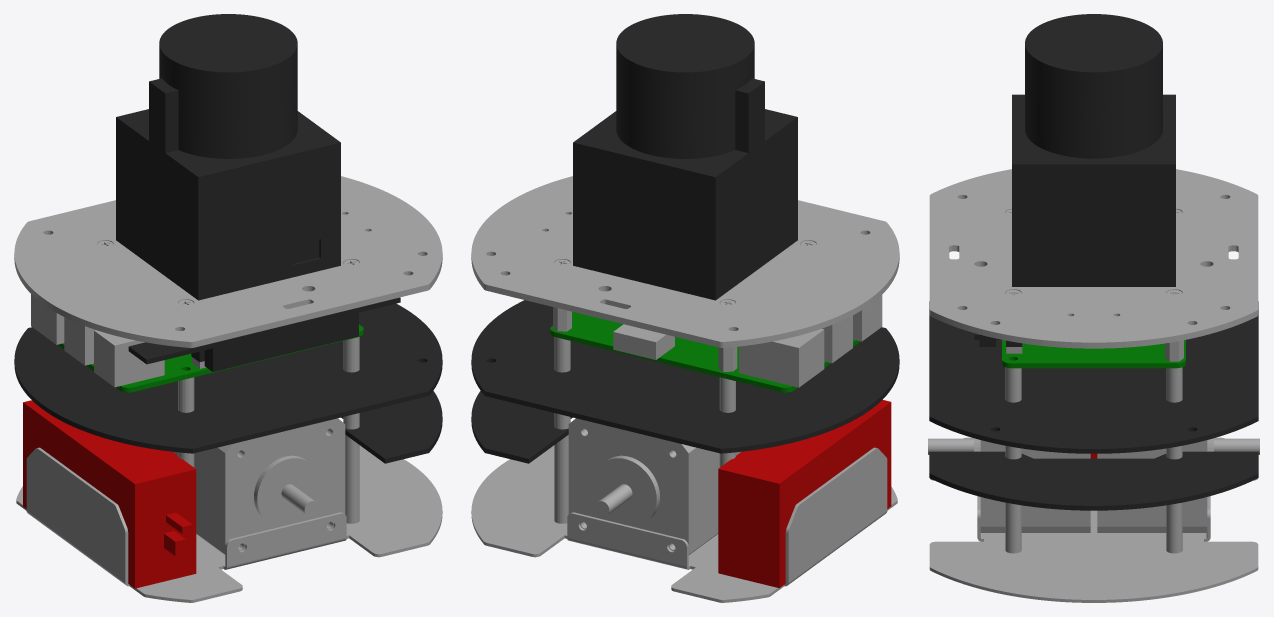
The model's file is RasPiMouse_body-TopPlate-URG.dae.
The picture shows the model from 3 angles, left to right: view 1: azimuth 30°, elevation 25°; view 2: azimuth 150°, elevation 25°; view 3: azimuth 270°, elevation 25°; orthographic projection.
Parts seen in each view (by area): view 1: URG-04LX-UG01, RasPiMouse_body_gray, RasPiMouse_base_black, RasPiMouse_TopPlate, RasPiMouse_body_red, RasPiMouse_body_green; view 2: URG-04LX-UG01, RasPiMouse_body_gray, RasPiMouse_base_black, RasPiMouse_TopPlate, RasPiMouse_body_red, RasPiMouse_body_green; view 3: RasPiMouse_base_black, URG-04LX-UG01, RasPiMouse_TopPlate, RasPiMouse_body_gray, RasPiMouse_body_green.
Boxes of the visible parts, left/top/right/bottom form: URG-04LX-UG01: left=116, top=14, right=340, bottom=300; RasPiMouse_body_gray: left=16, top=294, right=442, bottom=602; RasPiMouse_base_black: left=14, top=297, right=442, bottom=463; RasPiMouse_TopPlate: left=14, top=176, right=442, bottom=347; RasPiMouse_body_red: left=23, top=400, right=196, bottom=588; RasPiMouse_body_green: left=58, top=324, right=363, bottom=392; URG-04LX-UG01: left=573, top=14, right=797, bottom=300; RasPiMouse_body_gray: left=471, top=295, right=897, bottom=602; RasPiMouse_base_black: left=471, top=300, right=899, bottom=463; RasPiMouse_TopPlate: left=471, top=176, right=899, bottom=371; RasPiMouse_body_red: left=718, top=399, right=891, bottom=588; RasPiMouse_body_green: left=550, top=311, right=860, bottom=392; RasPiMouse_base_black: left=929, top=301, right=1258, bottom=510; URG-04LX-UG01: left=1012, top=14, right=1175, bottom=286; RasPiMouse_TopPlate: left=929, top=169, right=1258, bottom=361; RasPiMouse_body_gray: left=928, top=347, right=1259, bottom=602; RasPiMouse_body_green: left=1002, top=340, right=1185, bottom=368.
Size of the model in its own units: 0.13 by 0.101 by 0.1577.
